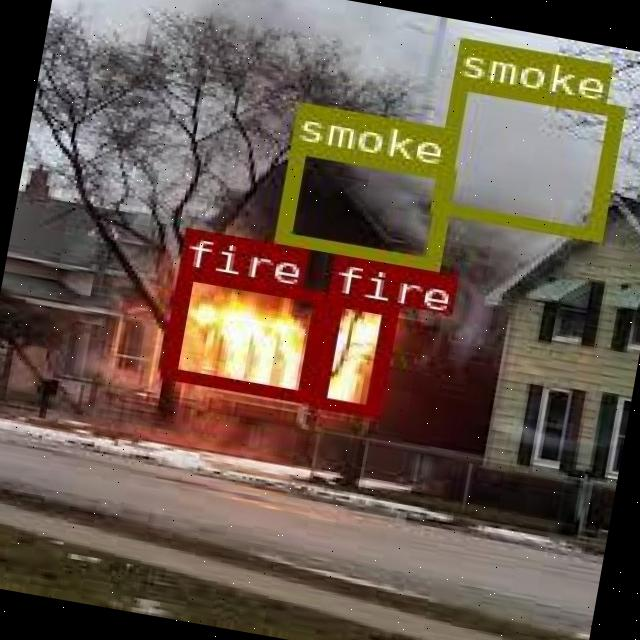fire: (159, 265, 326, 401), (308, 291, 394, 414)
smoke: (428, 76, 621, 239), (273, 138, 452, 267)
